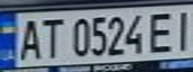0: (66, 15, 90, 58)
2: (106, 12, 127, 56)
4: (124, 11, 151, 55)
5: (87, 14, 109, 57)
A: (15, 16, 45, 61)
E: (145, 8, 178, 54)
I: (169, 7, 193, 52)
T: (36, 16, 66, 60)
